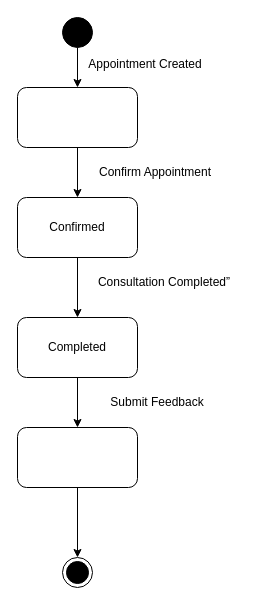
Some shapes in this 267 by 605 pixel diagram are drawn without their labels. Each missing label, with the box of its shape:
Feedback Submitted: (16, 426, 138, 488)
Requested: (16, 86, 138, 148)
